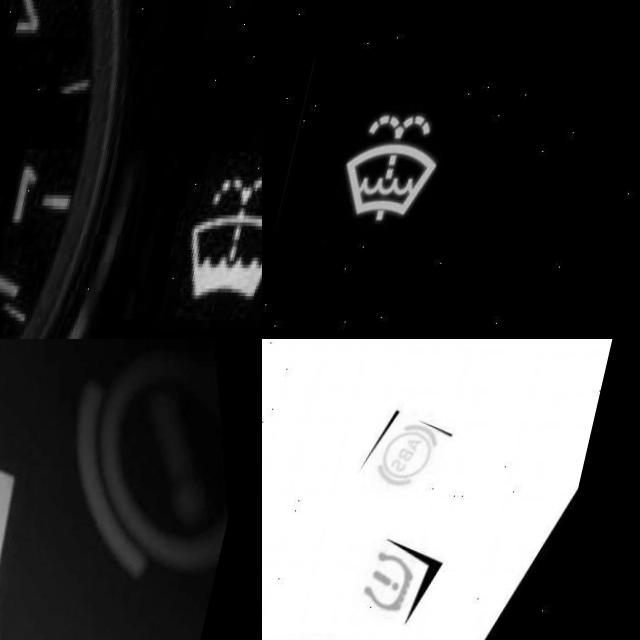Washer Fluid: (352, 110, 464, 223), (193, 178, 262, 300)
